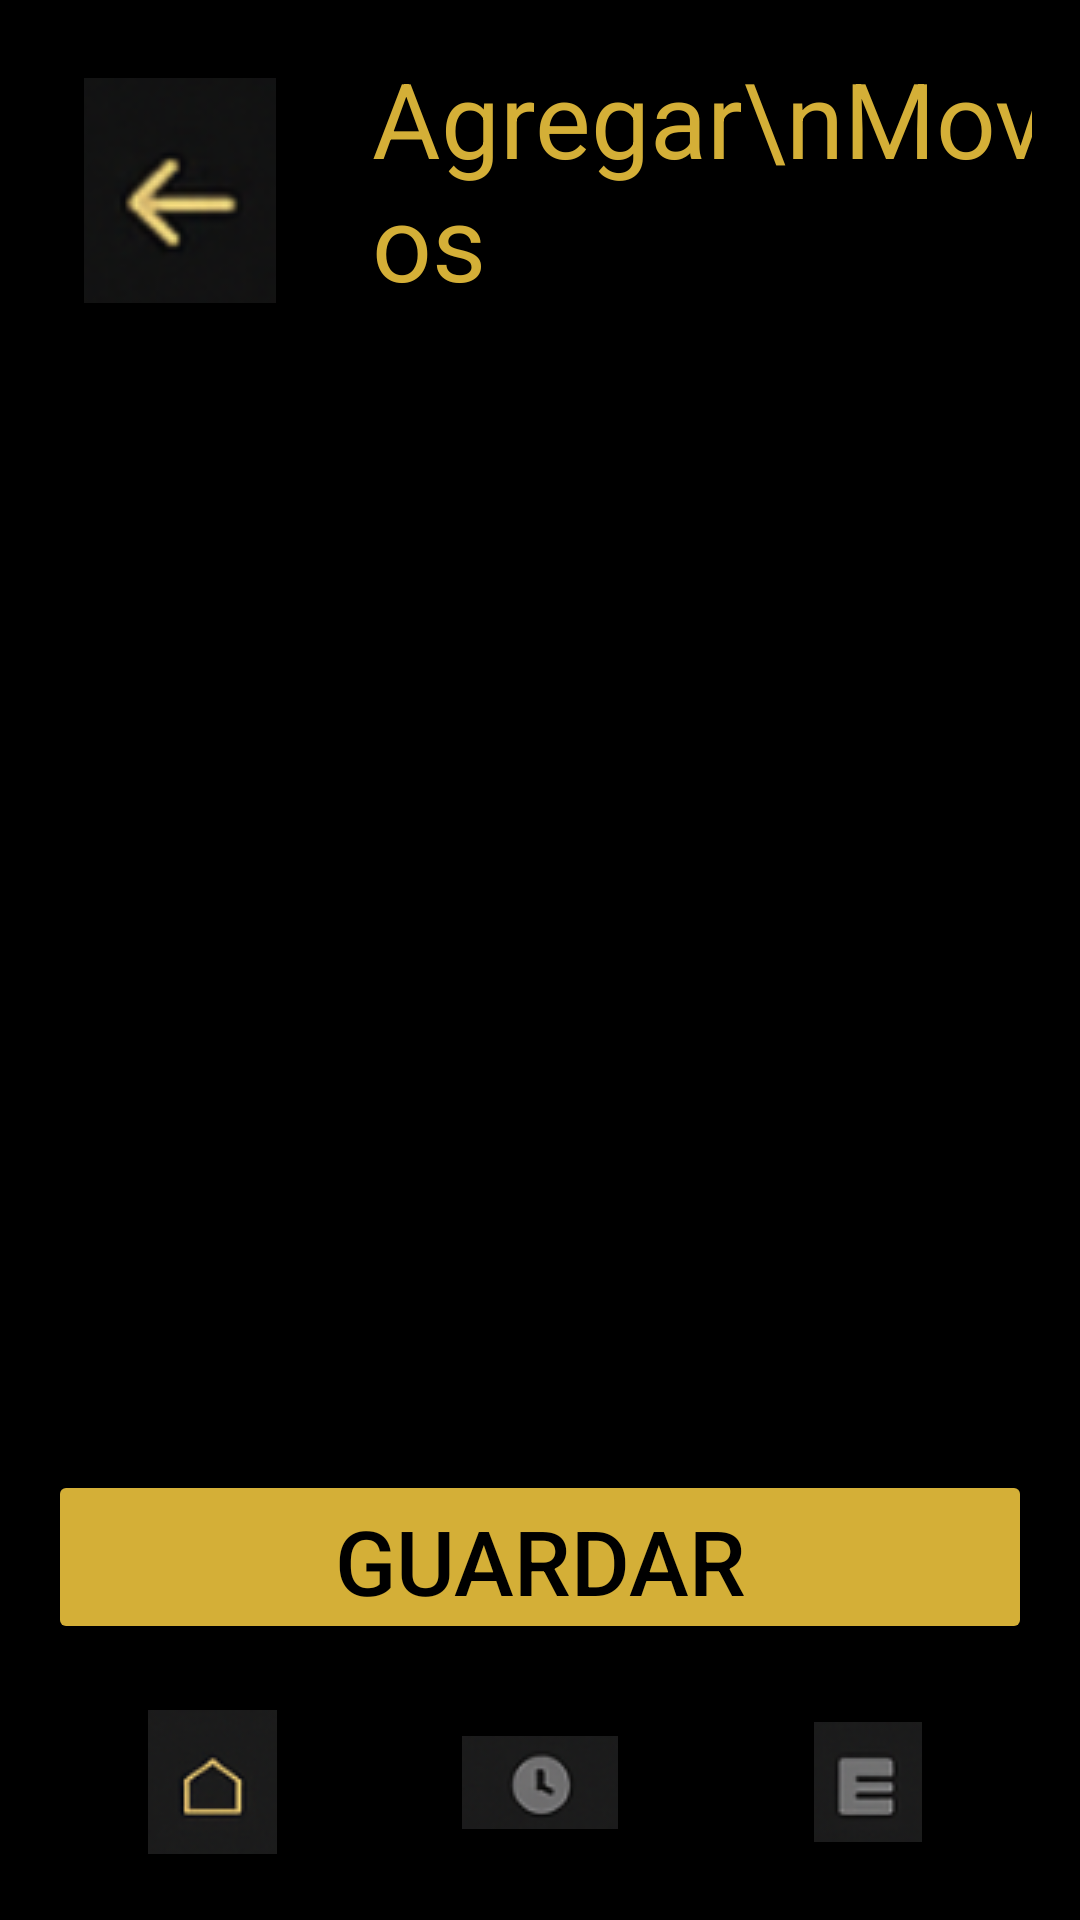

Icon bounding boxes for this 1080px x 1920px phone screenshot, format (x1, y1, x2, y2):
flecha: (84, 78, 276, 303)
imagencasa: (148, 1710, 277, 1854)
menu: (814, 1722, 922, 1842)
relojimagen: (462, 1736, 618, 1829)
